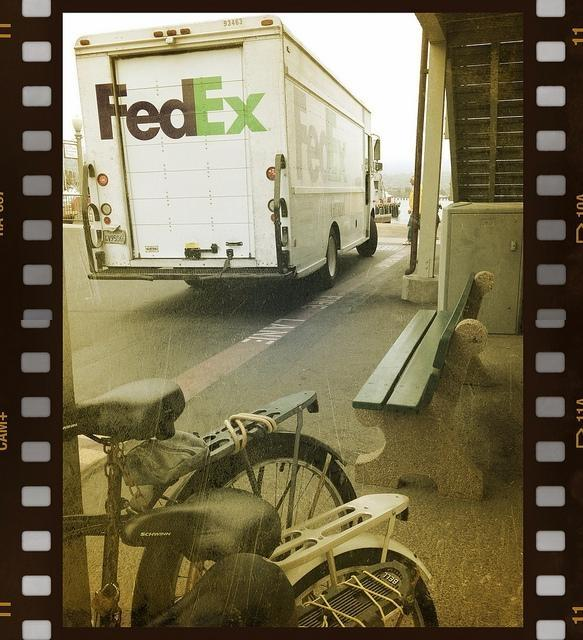bicycle: (110, 489, 426, 631), (169, 436, 362, 532), (184, 558, 440, 627)
truck: (74, 18, 378, 284)
